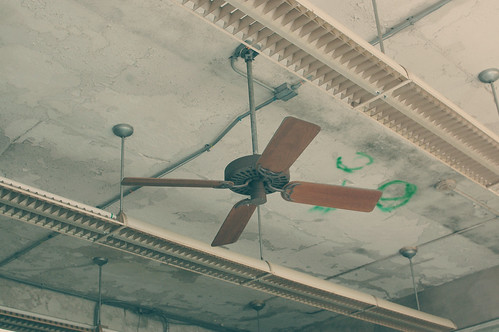fan: (123, 94, 373, 258)
